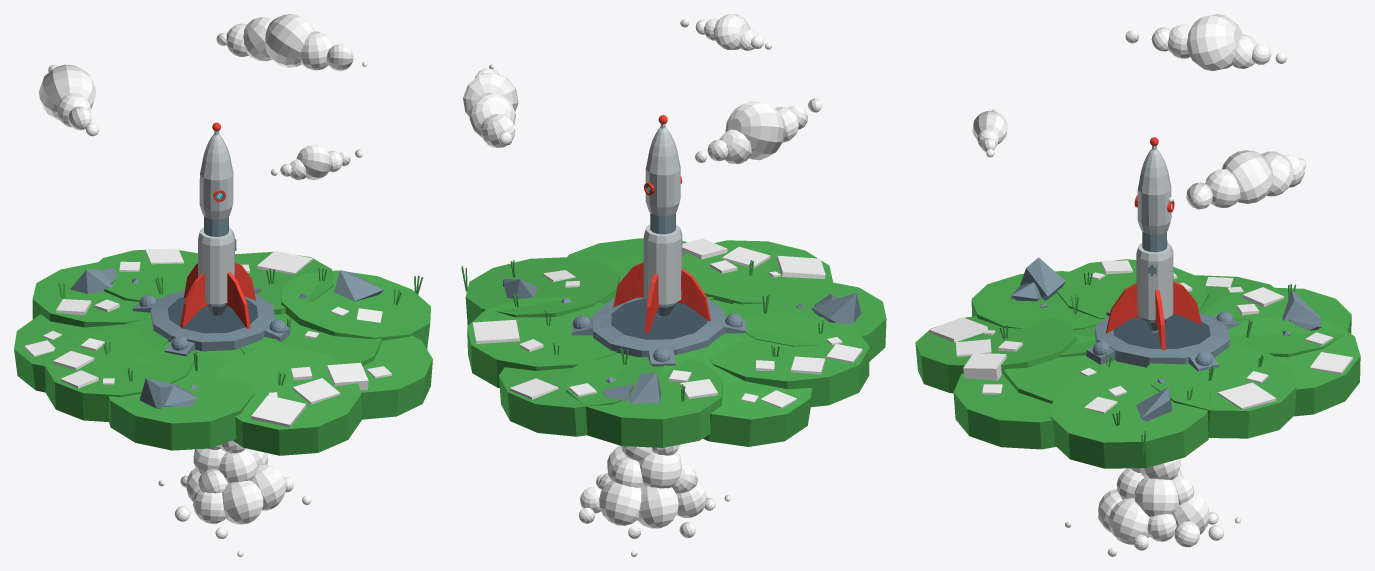
The model's file is ApolloHeights.glb.
The picture shows the model from 3 angles, left to right: view 1: azimuth 30°, elevation 25°; view 2: azimuth 150°, elevation 25°; view 3: azimuth 270°, elevation 25°; orthographic projection. The views are drawn at different scales.
Parts seen in each view (by area): view 1: group782243387, group906924465, group458531781, group1299656231, group1710198644, group1967381130, group344410003, group966288980, group164032811, group313313379, group951584146, group1225221972 (+12 smaller); view 2: group782243387, group1299656231, group344410003, group48642844, group1710198644, group313313379, group164032811, group709040070, group458531781, group951584146, group906924465, group1967381130 (+13 smaller); view 3: group782243387, group1710198644, group48642844, group966288980, group906924465, group709040070, group164032811, group1967381130, group951584146, group344410003, group458531781, group1299656231 (+9 smaller).
Boxes of the visible parts, x1,y1,x2,y2 form: group782243387: (158, 122, 311, 556); group906924465: (214, 347, 361, 455); group458531781: (109, 352, 254, 450); group1299656231: (45, 327, 194, 421); group1710198644: (281, 270, 430, 349); group1967381130: (216, 14, 367, 71); group344410003: (32, 262, 186, 327); group966288980: (303, 327, 432, 419); group164032811: (150, 289, 275, 351); group313313379: (14, 303, 168, 392); group951584146: (38, 64, 99, 136); group1225221972: (240, 313, 381, 365); group782243387: (579, 115, 730, 556); group1299656231: (709, 312, 869, 407); group344410003: (566, 353, 722, 447); group48642844: (467, 296, 617, 387); group1710198644: (465, 257, 619, 325); group313313379: (662, 335, 812, 446); group164032811: (592, 297, 724, 357); group709040070: (499, 357, 655, 436); group458531781: (728, 280, 886, 361); group951584146: (695, 98, 821, 164); group906924465: (682, 240, 833, 304); group1967381130: (463, 64, 518, 147); group782243387: (1065, 137, 1240, 556); group1710198644: (1050, 367, 1210, 468); group48642844: (1147, 343, 1296, 438); group966288980: (953, 373, 1056, 449); group906924465: (915, 316, 1076, 393); group709040070: (1228, 315, 1360, 416); group164032811: (1094, 313, 1229, 367); group1967381130: (1168, 150, 1306, 209); group951584146: (1125, 14, 1286, 70); group344410003: (1205, 287, 1351, 357); group458531781: (971, 271, 1126, 330); group1299656231: (1056, 259, 1209, 318).
Bounding box in the file's own units: 4.13 × 4.84 × 4.23.
